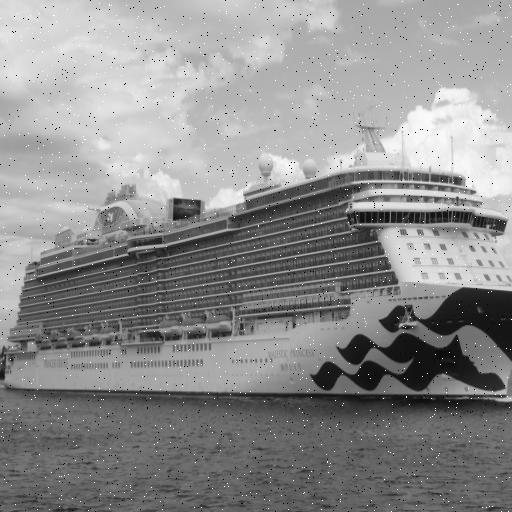cruises: (1, 103, 512, 406)
